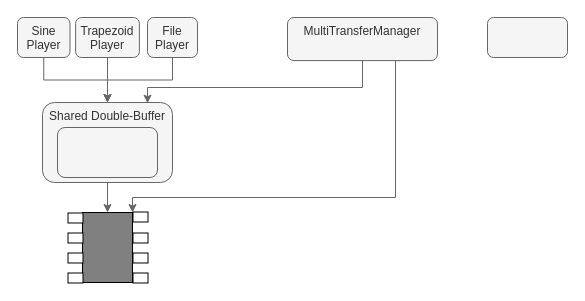
This 585x301 diagram has some shape labels left out. The centre of each missing label's shape, as x and y in pixels:
Double-Buffer (RAM): the point at 107,152
FileSys: the point at 527,37
LTC2641[0]: the point at 107,247
